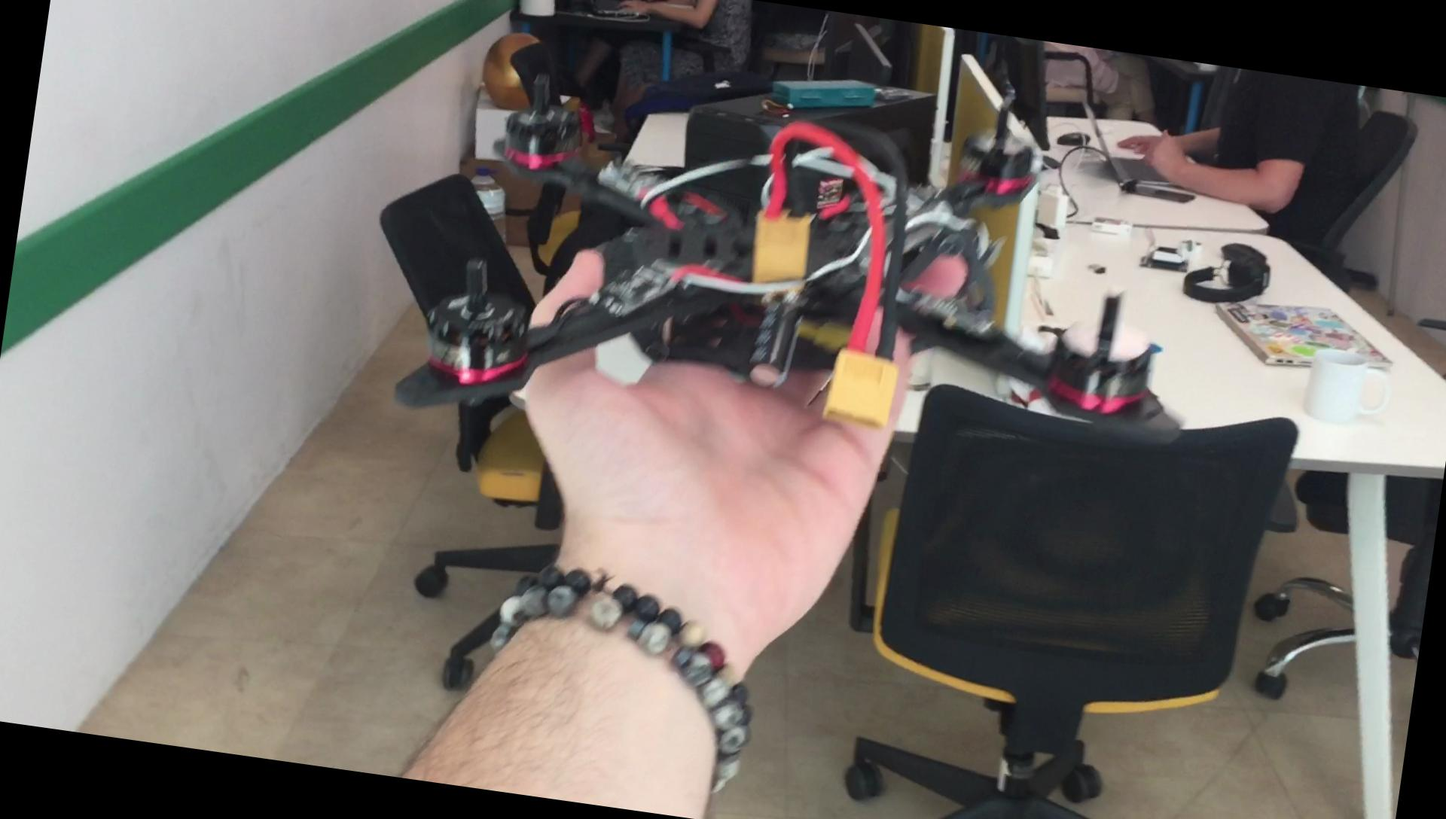drone: (403, 32, 1202, 519)
